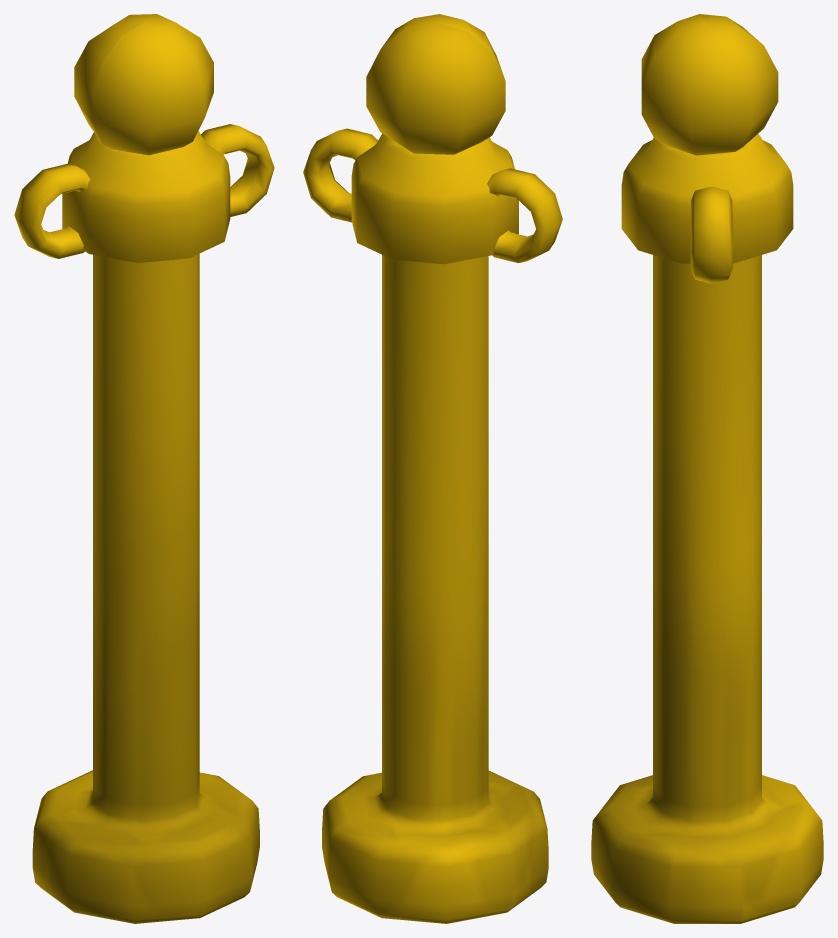
File: Postinho.fbx
3 views of the same model, side by side, from view 1: azimuth 30°, elevation 25°; view 2: azimuth 150°, elevation 25°; view 3: azimuth 270°, elevation 25° (orthographic).
Visible parts, largest first — view 1: Cerca; view 2: Cerca; view 3: Cerca.
Part boxes in pixels (x1,y1,x2,y2): Cerca: (14,14,274,923); Cerca: (303,14,562,923); Cerca: (591,14,823,923).
Bounding box in the file's own units: 74.64 × 245 × 60.16.
